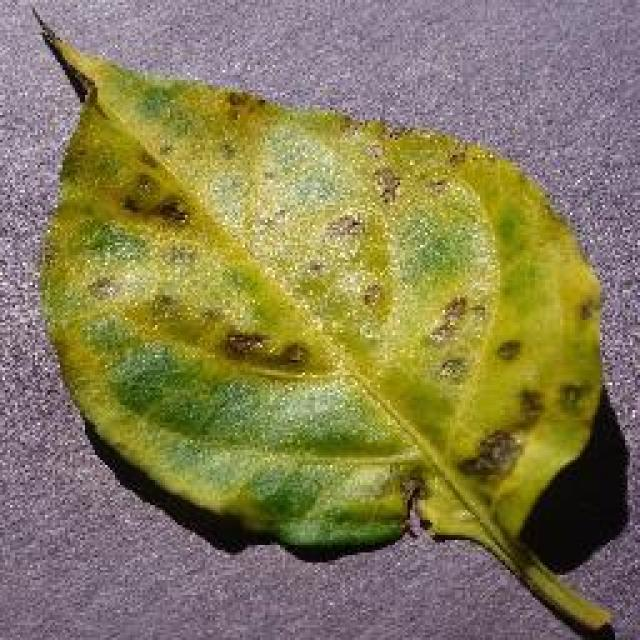Chilli_Bacterial_Spot: (25, 5, 620, 637), (215, 323, 313, 375), (115, 168, 193, 230), (453, 425, 525, 485), (422, 290, 472, 345), (115, 168, 165, 218), (318, 208, 368, 248), (218, 325, 268, 363), (550, 375, 592, 420), (367, 162, 405, 208), (148, 192, 192, 230), (490, 335, 525, 365)
